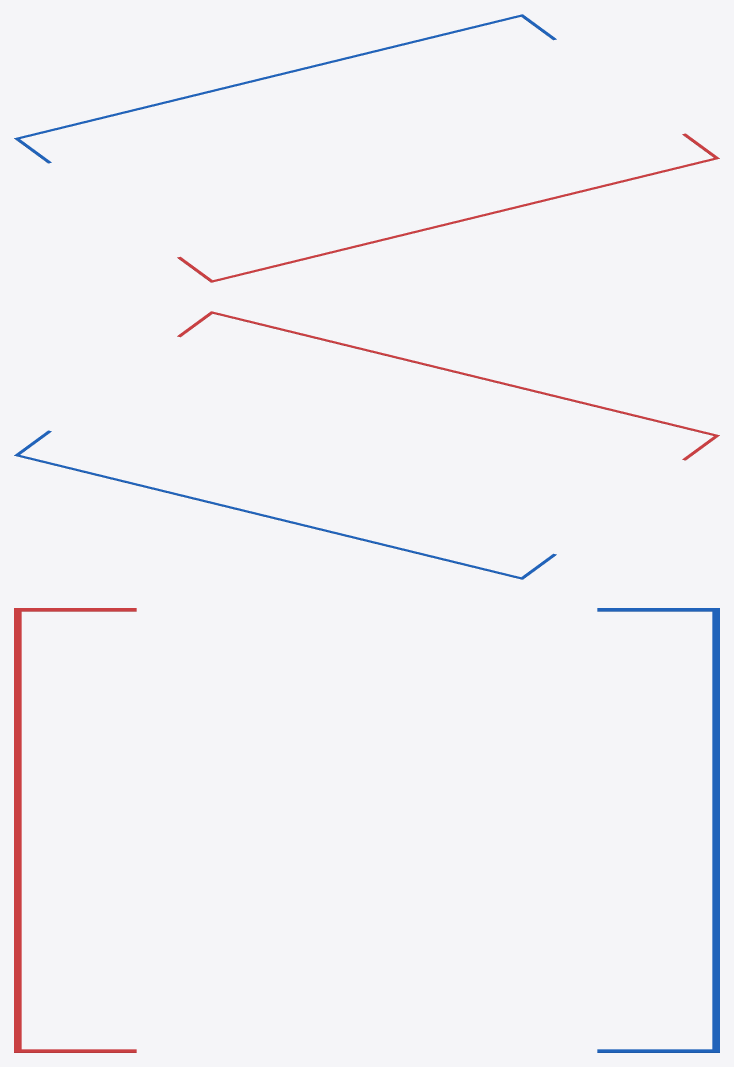
The picture shows the model from 3 angles, top to bottom: view 1: azimuth 30°, elevation 25°; view 2: azimuth 150°, elevation 25°; view 3: azimuth 270°, elevation 25°; orthographic projection. The views are drawn at different scales.
Bounding box in the file's own units: 139 × 0.05 × 93.44.
2 materials, 2 textured.
